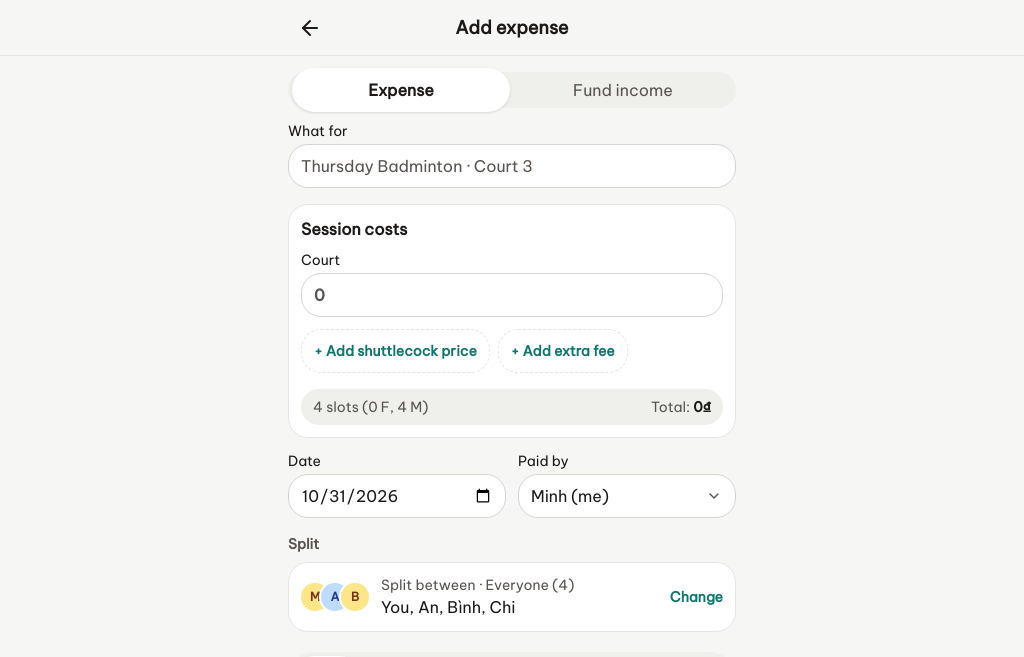
Test: Paid by: Group fund › carries a typed sport total into Amount
Type "150k" into the field labelled "Court".
click(512, 295); type("150k")  # box [301,273,723,317]
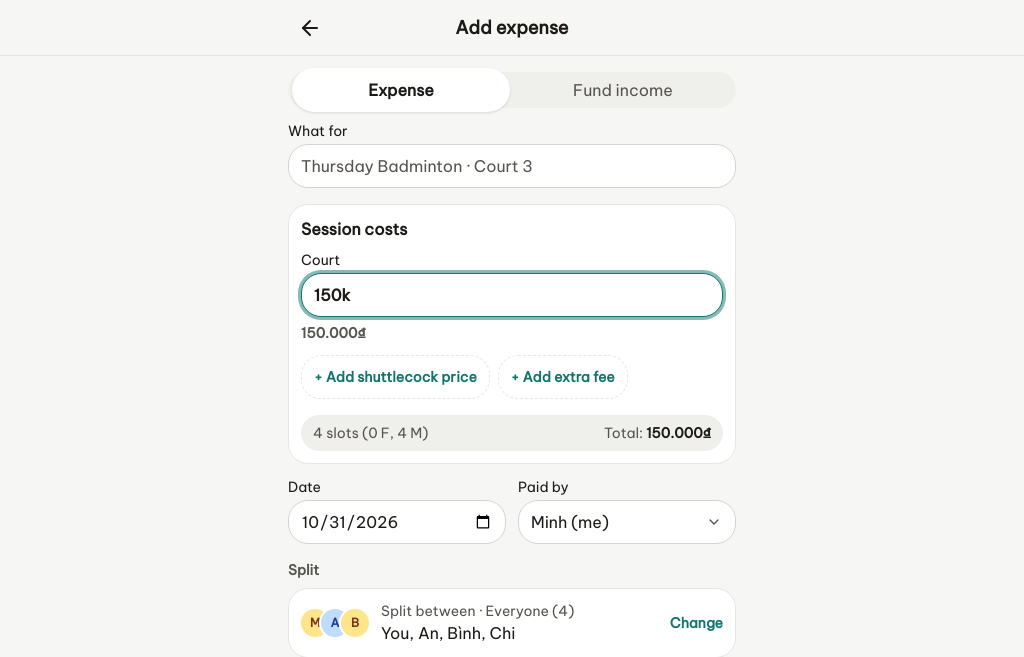
Select "Group fund · 400.000₫" in the dropdown labelled "Paid by" at (627,522), box [518,500,736,544]
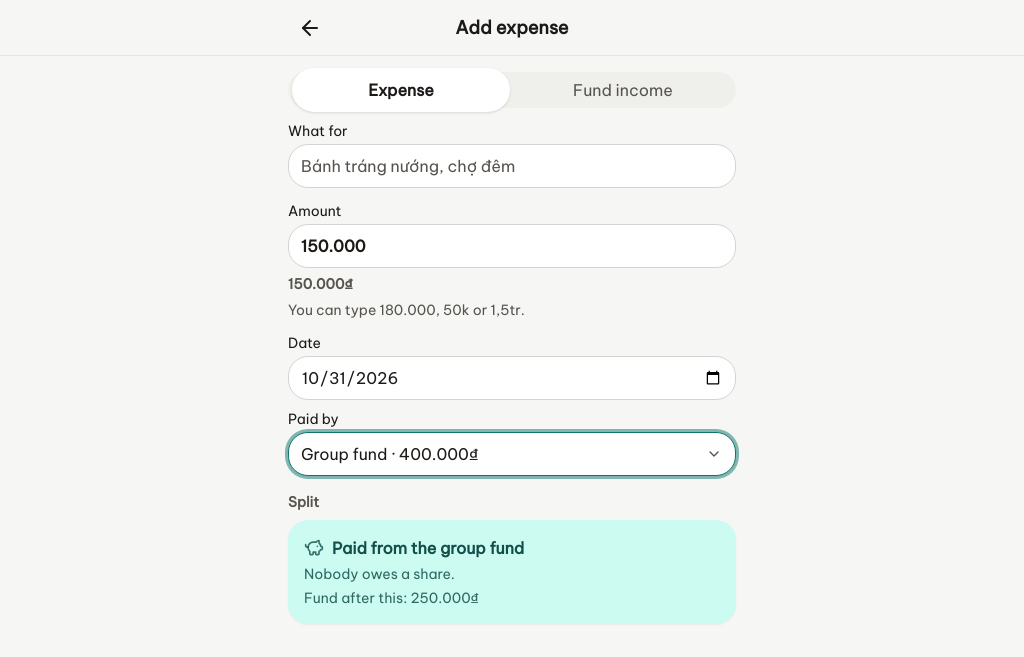
expect the field labelled "Amount" holds "150.000": met, box [288,224,736,268]
expect the text "Fund after this: 250.000₫" is shown: met, box [304,589,479,607]
